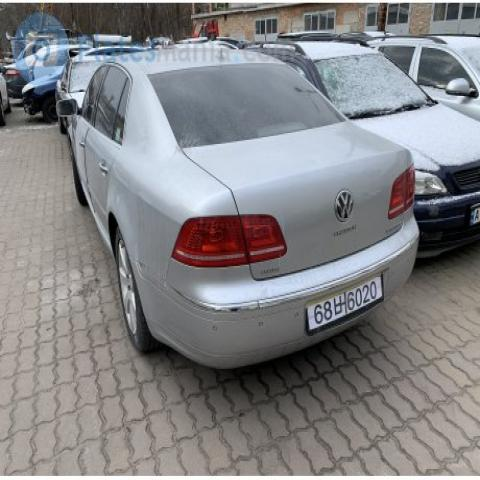LP: (301, 264, 393, 346)
